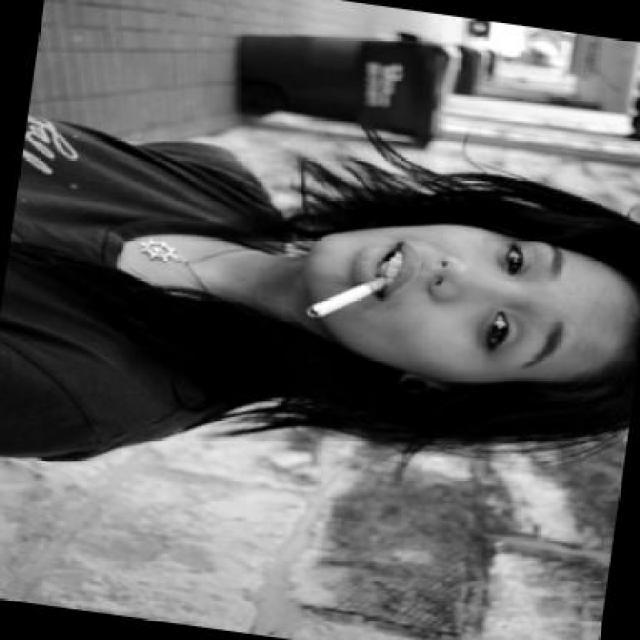smoke: (304, 264, 387, 327)
